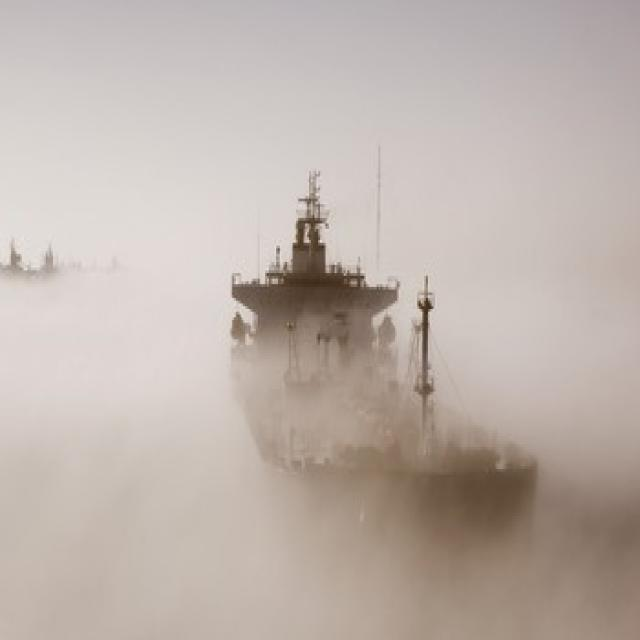cargoship: (223, 161, 538, 585), (0, 215, 130, 304)
